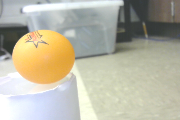PingPongBall: (13, 30, 75, 84)
